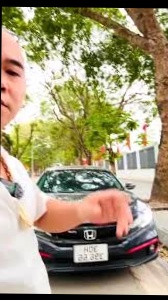Bien-so: (75, 252, 107, 271)
